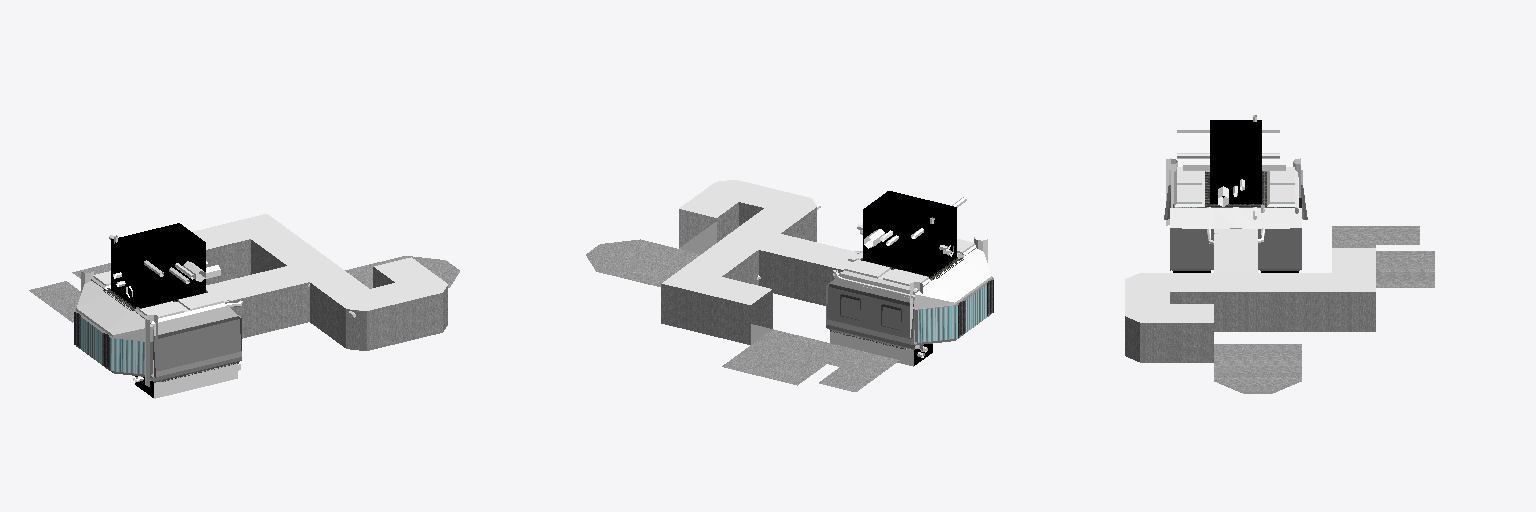
The picture shows the model from 3 angles: view 1: azimuth 30°, elevation 25°; view 2: azimuth 150°, elevation 25°; view 3: azimuth 270°, elevation 25°; orthographic projection.
Parts seen in each view (by area): view 1: map_mesh; view 2: map_mesh; view 3: map_mesh.
Part boxes in pixels (x1,y1,x2,y2): map_mesh: (29, 214, 459, 398); map_mesh: (586, 180, 993, 391); map_mesh: (1125, 115, 1434, 393).
Bounding box in the file's own units: 29.22 × 9.86 × 21.
Materials: 14 (5 with a texture image).